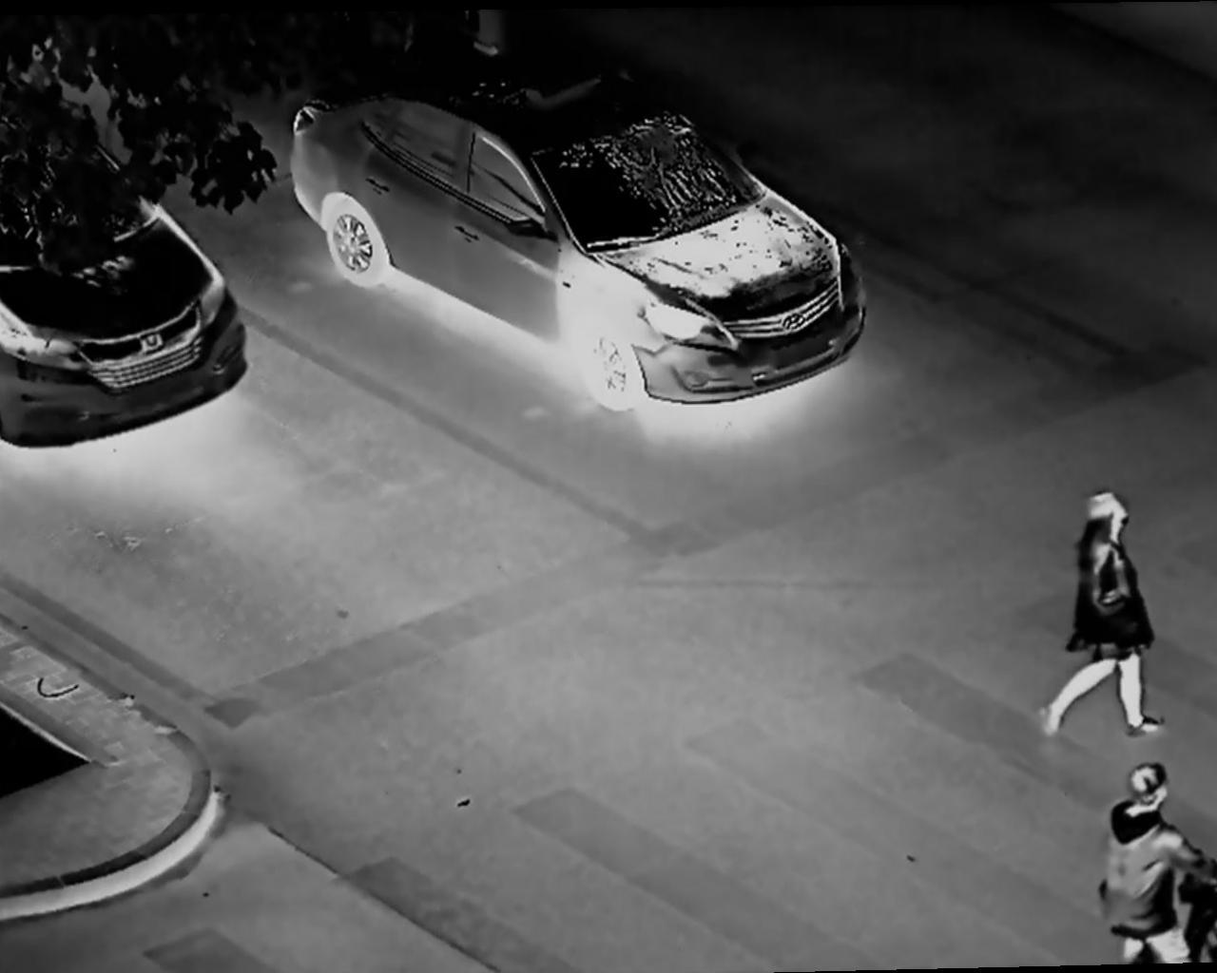person: (1033, 482, 1182, 745), (1099, 750, 1217, 965)
